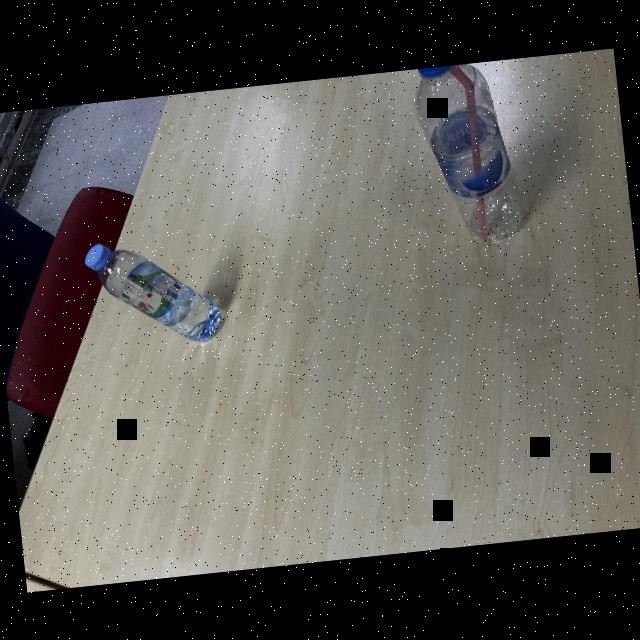plastic_bottle: (409, 58, 528, 248), (82, 230, 226, 356)
